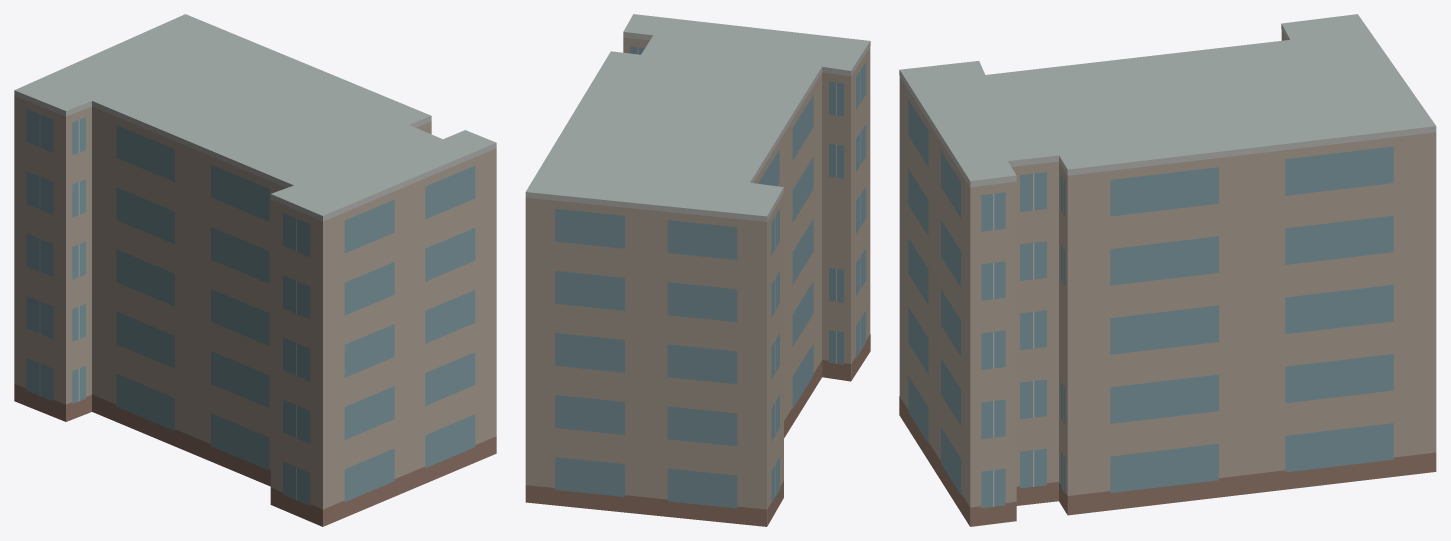
Rendered from survey-upis-32970363.glb.
3 renders of one model, left to right at view 1: azimuth 30°, elevation 25°; view 2: azimuth 150°, elevation 25°; view 3: azimuth 270°, elevation 25°, orthographic. The views are drawn at different scales.
Parts seen in each view (by area): view 1: survey-upis-32970363.tmp; view 2: survey-upis-32970363.tmp; view 3: survey-upis-32970363.tmp.
Part boxes in pixels (<box>): survey-upis-32970363.tmp: <box>14,14,496,526</box>; survey-upis-32970363.tmp: <box>525,14,870,526</box>; survey-upis-32970363.tmp: <box>899,14,1436,526</box>.
Bounding box in the file's own units: 14.22 × 13.7 × 19.29.
